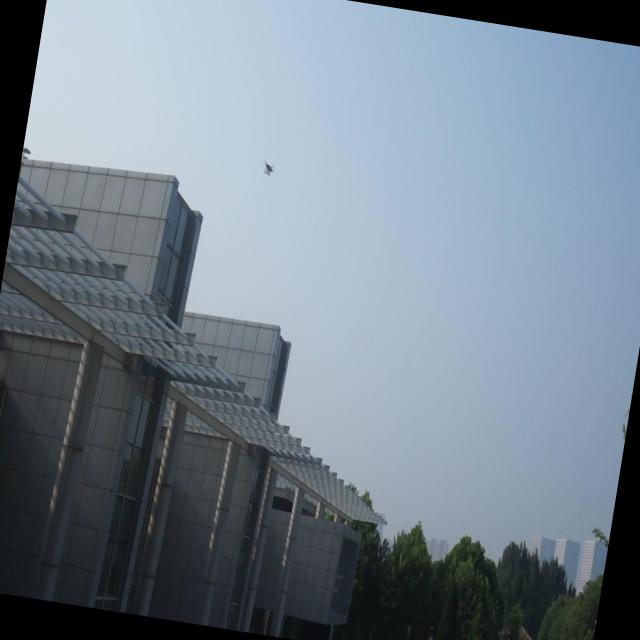drone: (258, 157, 278, 180)
